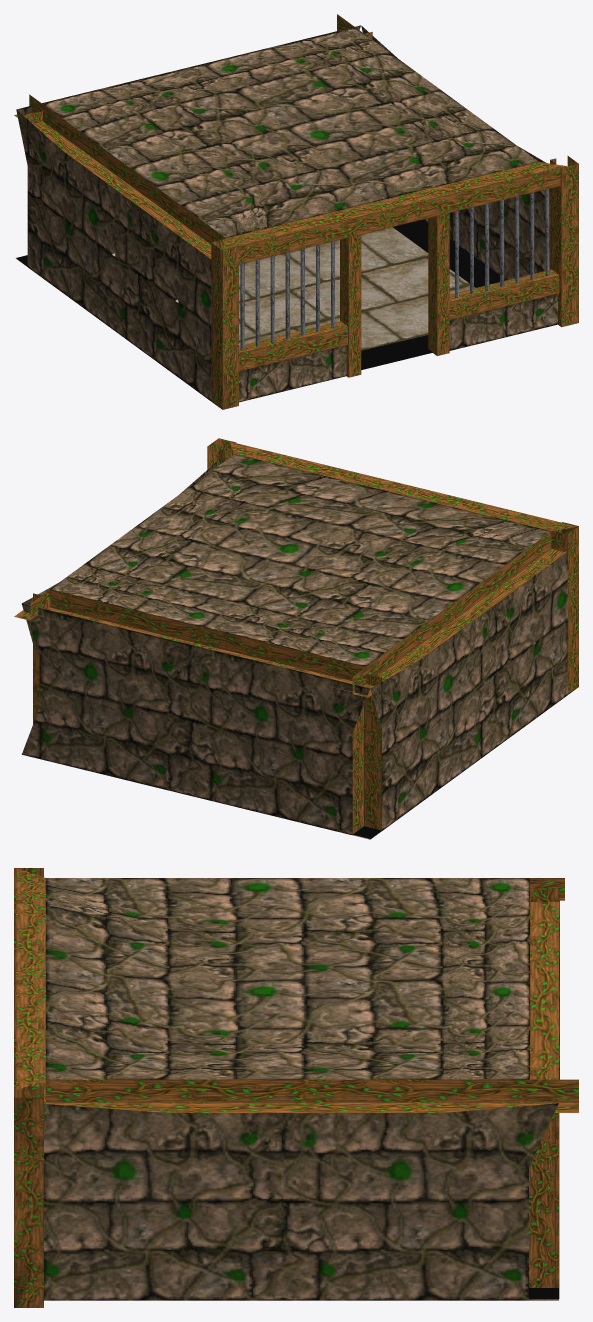
The model's file is INST_EKH_JAIL_CELL.obj.
3 renders of one model, top to bottom at view 1: azimuth 30°, elevation 25°; view 2: azimuth 150°, elevation 25°; view 3: azimuth 270°, elevation 25°, orthographic. The views are drawn at different scales.
Parts seen in each view (by area): view 1: st_JailCell__GX; view 2: st_JailCell__GX; view 3: st_JailCell__GX.
Boxes of the visible parts, x1=… form: st_JailCell__GX: x1=14, y1=14, x2=578, y2=409; st_JailCell__GX: x1=14, y1=438, x2=578, y2=839; st_JailCell__GX: x1=14, y1=868, x2=578, y2=1307.
Size of the model in its own units: 519 by 221 by 537.
